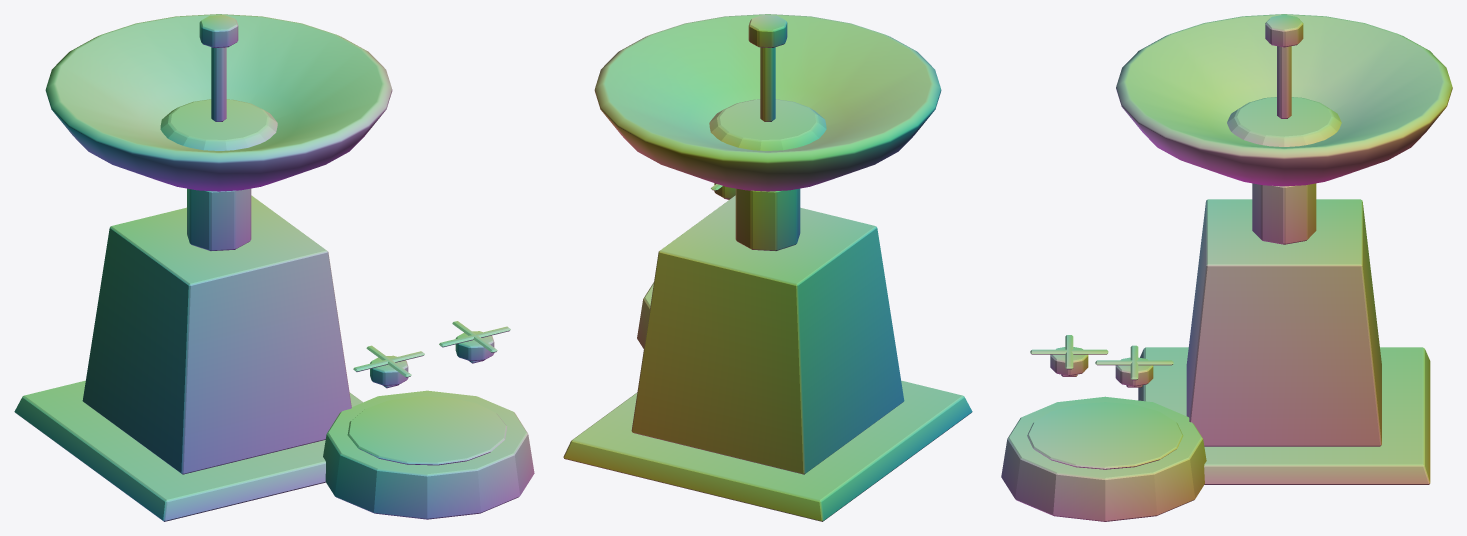
File: addon_support_rig.glb
The picture shows the model from 3 angles, left to right: view 1: azimuth 30°, elevation 25°; view 2: azimuth 150°, elevation 25°; view 3: azimuth 270°, elevation 25°; orthographic projection. The views are drawn at different scales.
Parts seen in each view (by area): view 1: body, spin_dish; view 2: body, spin_dish; view 3: body, spin_dish.
Part boxes in pixels (box(x1,y1,x2,y2)): body: box(14, 188, 534, 521); spin_dish: box(45, 14, 392, 191); body: box(563, 183, 972, 521); spin_dish: box(594, 14, 941, 191); body: box(1001, 183, 1430, 521); spin_dish: box(1116, 14, 1452, 186).
Size of the model in its own units: 12.36 by 13.6 by 13.86.
